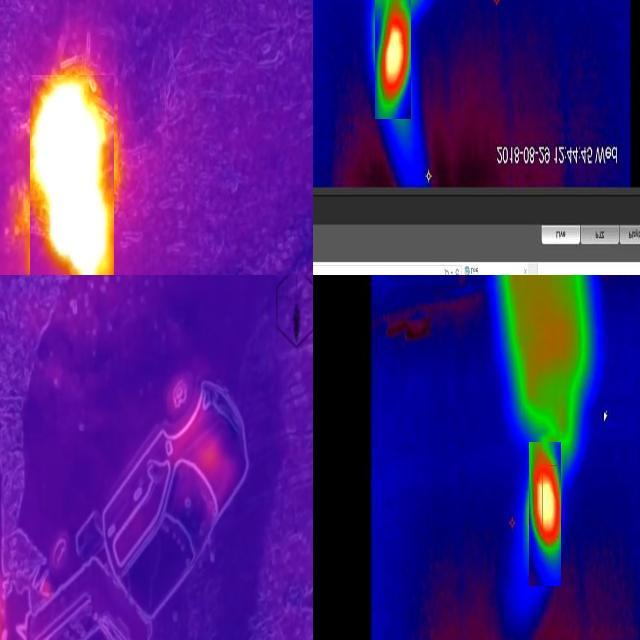fire: (30, 75, 114, 276), (529, 442, 561, 586), (375, 1, 411, 119)
